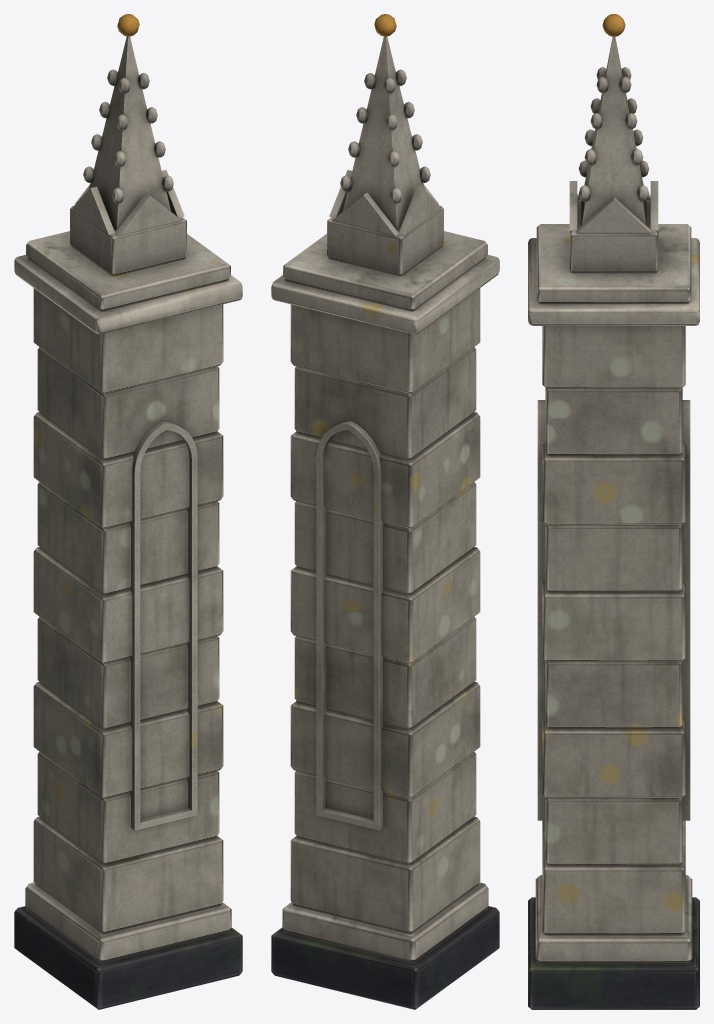
The model's file is RailingPost.fbx.
3 renders of one model, left to right at view 1: azimuth 30°, elevation 25°; view 2: azimuth 150°, elevation 25°; view 3: azimuth 270°, elevation 25°, orthographic.
Visible parts, largest first — view 1: RailingPost; view 2: RailingPost; view 3: RailingPost.
Boxes of the visible parts, bbox=[...] form: RailingPost: bbox=[14, 14, 242, 1009]; RailingPost: bbox=[271, 14, 499, 1009]; RailingPost: bbox=[528, 14, 699, 1009].
Bounding box in the file's own units: 180 × 1109 × 180.
